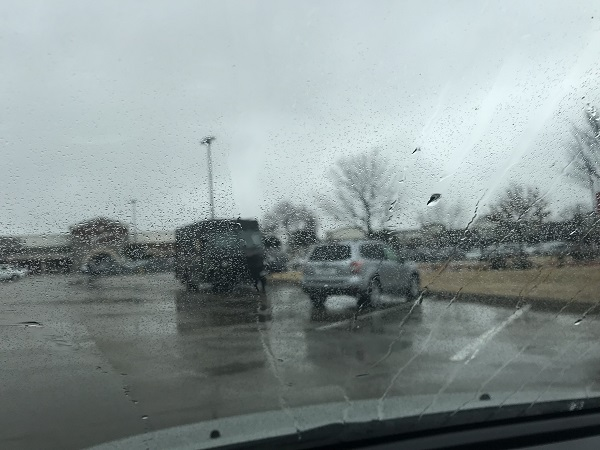bus: (170, 219, 266, 289)
car: (303, 241, 424, 307)
